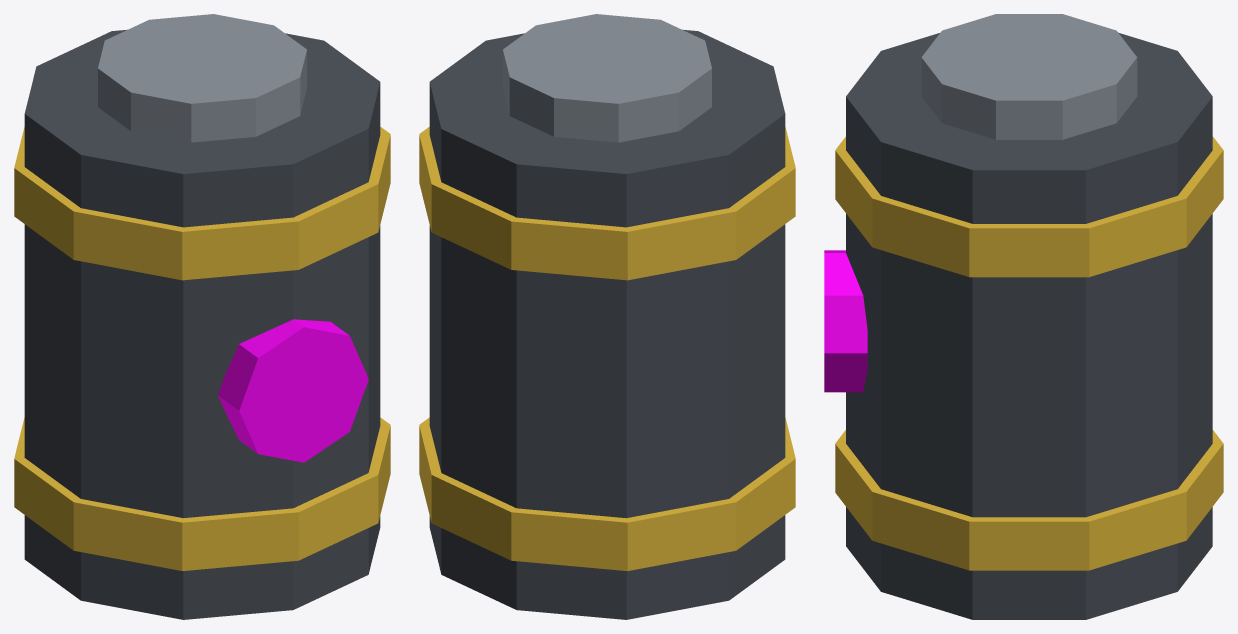
File: objet_conteneur.glb
The picture shows the model from 3 angles, left to right: view 1: azimuth 30°, elevation 25°; view 2: azimuth 150°, elevation 25°; view 3: azimuth 270°, elevation 25°; orthographic projection.
Visible parts, largest first — view 1: corps.002, conteneur_jaune.002, conteneur_acier.002, conteneur_teinte.002; view 2: corps.002, conteneur_jaune.002, conteneur_acier.002; view 3: corps.002, conteneur_jaune.002, conteneur_acier.002, conteneur_teinte.002.
Boxes of the visible parts, bbox=[...] form: corps.002: bbox=[24, 29, 380, 619]; conteneur_jaune.002: bbox=[14, 126, 390, 570]; conteneur_acier.002: bbox=[98, 14, 306, 142]; conteneur_teinte.002: bbox=[218, 319, 368, 462]; corps.002: bbox=[429, 29, 785, 619]; conteneur_jaune.002: bbox=[419, 126, 795, 570]; conteneur_acier.002: bbox=[503, 14, 711, 142]; corps.002: bbox=[846, 32, 1212, 619]; conteneur_jaune.002: bbox=[835, 136, 1223, 570]; conteneur_acier.002: bbox=[921, 14, 1137, 139]; conteneur_teinte.002: bbox=[824, 250, 867, 392].
Size of the model in its own units: 0.1712 by 0.25 by 0.185.
